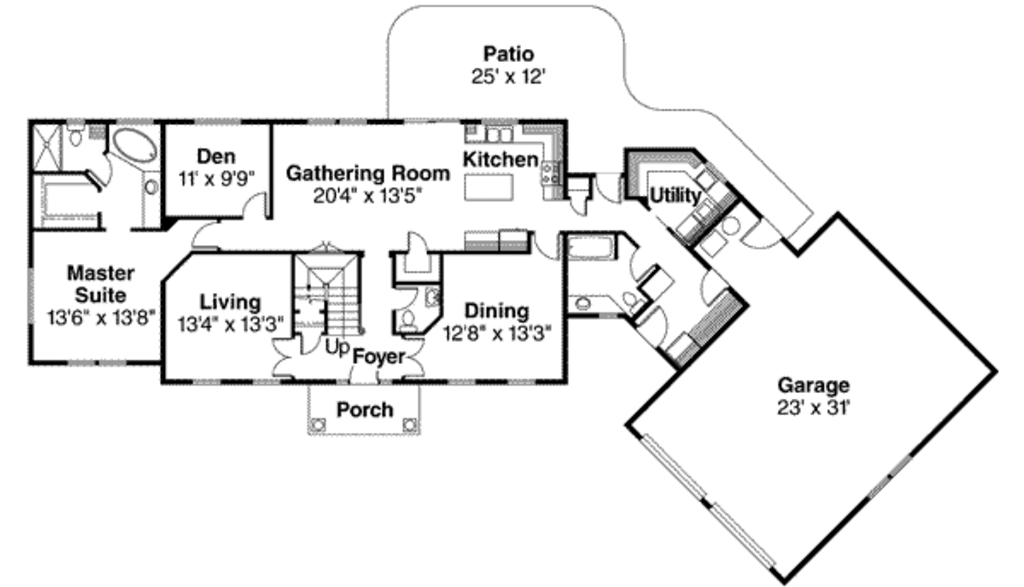door: (740, 212, 781, 255), (695, 265, 733, 309), (637, 304, 672, 348), (185, 222, 224, 258), (271, 334, 296, 385), (592, 173, 628, 207), (402, 331, 427, 379), (625, 244, 655, 282), (533, 227, 562, 262), (89, 154, 115, 187), (392, 284, 420, 314), (402, 228, 432, 255), (242, 190, 273, 216), (564, 191, 592, 216)
large_sink: (59, 112, 87, 150), (394, 307, 423, 336), (618, 288, 648, 316)
small_sink: (564, 293, 614, 319), (141, 167, 163, 224)
stairs: (287, 251, 363, 337)
tub: (106, 120, 162, 176)
twin_sink: (480, 124, 517, 147)
window: (303, 113, 370, 130), (192, 111, 244, 128), (62, 359, 129, 371), (25, 266, 35, 326)
